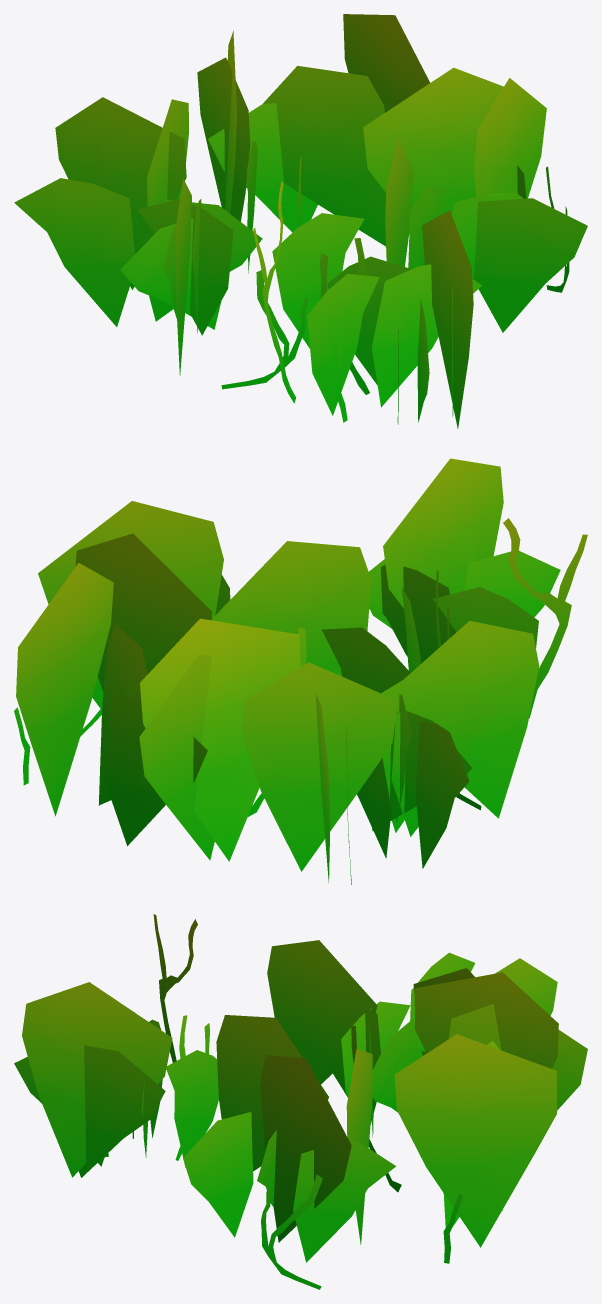
The model's file is Lingonberry_LOD4_Var14_wjhjahlqx.fbx.
3 renders of one model, top to bottom at view 1: azimuth 30°, elevation 25°; view 2: azimuth 150°, elevation 25°; view 3: azimuth 270°, elevation 25°, orthographic. The views are drawn at different scales.
Visible parts, largest first — view 1: _czzv_Var14_LOD4; view 2: _czzv_Var14_LOD4; view 3: _czzv_Var14_LOD4.
Part boxes in pixels (<box>): _czzv_Var14_LOD4: <box>14,14,587,428</box>; _czzv_Var14_LOD4: <box>14,458,587,884</box>; _czzv_Var14_LOD4: <box>14,914,587,1289</box>.
Bounding box in the file's own units: 38.32 × 18.8 × 44.28.
